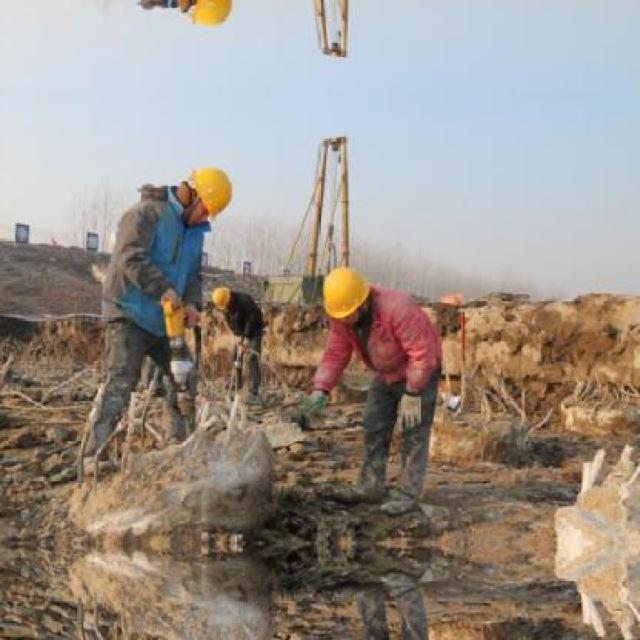helmet: (186, 158, 234, 224), (322, 268, 378, 318), (210, 282, 232, 312)
